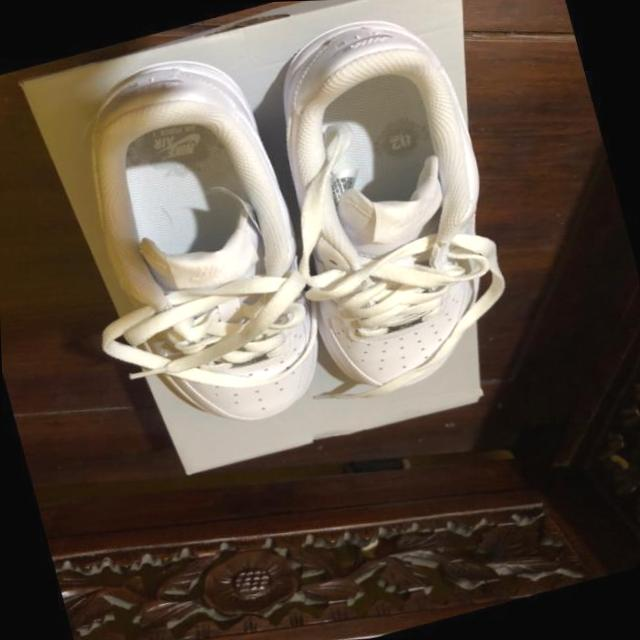nike_original_airforce: (40, 36, 342, 454), (241, 0, 529, 407)
